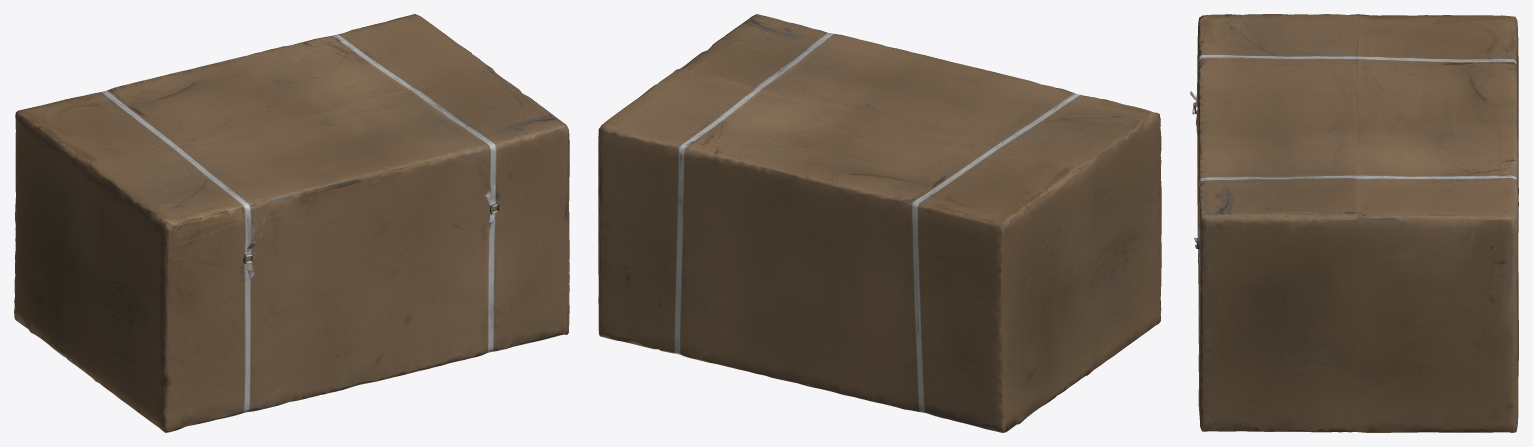
The model's file is Cardboard_Box_vgyidauaw_High.gltf.
3 views of the same model, side by side, from view 1: azimuth 30°, elevation 25°; view 2: azimuth 150°, elevation 25°; view 3: azimuth 270°, elevation 25° (orthographic). The views are drawn at different scales.
Visible parts, largest first — view 1: vgyidauaw_LOD0_TIER1_000; view 2: vgyidauaw_LOD0_TIER1_000; view 3: vgyidauaw_LOD0_TIER1_000.
Boxes of the visible parts, x1,y1,x2,y2 form: vgyidauaw_LOD0_TIER1_000: (14,14,569,432); vgyidauaw_LOD0_TIER1_000: (598,14,1161,432); vgyidauaw_LOD0_TIER1_000: (1190,14,1518,432).
Size of the model in its own units: 1.24 by 0.6193 by 0.8413.
1 material, 1 textured.
